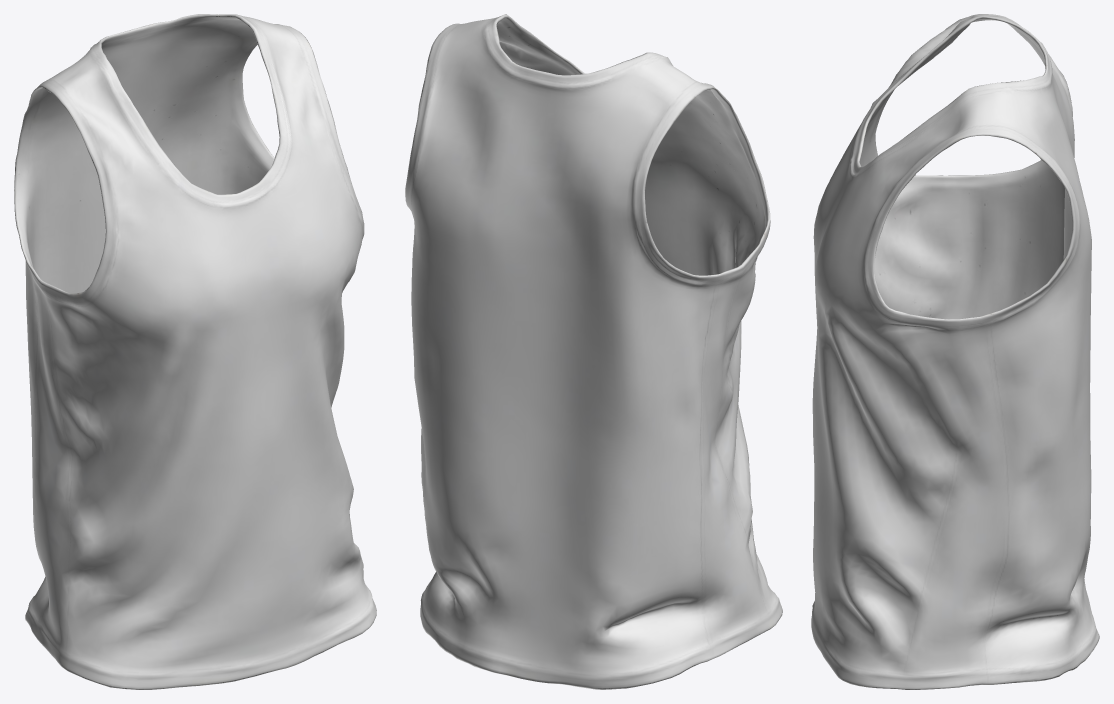
The model's file is training-singlet-textured.glb.
The picture shows the model from 3 angles, left to right: view 1: azimuth 30°, elevation 25°; view 2: azimuth 150°, elevation 25°; view 3: azimuth 270°, elevation 25°; orthographic projection. The views are drawn at different scales.
Visible parts, largest first — view 1: tripo_node_54e8041a-84f3-4f06-9873-70e75f038862; view 2: tripo_node_54e8041a-84f3-4f06-9873-70e75f038862; view 3: tripo_node_54e8041a-84f3-4f06-9873-70e75f038862.
Part boxes in pixels (x1,y1,x2,y2): tripo_node_54e8041a-84f3-4f06-9873-70e75f038862: (14, 14, 376, 689); tripo_node_54e8041a-84f3-4f06-9873-70e75f038862: (405, 14, 782, 689); tripo_node_54e8041a-84f3-4f06-9873-70e75f038862: (811, 14, 1099, 689).
Size of the model in its own units: 0.5428 by 0.9975 by 0.4485.
1 material, 1 textured.
